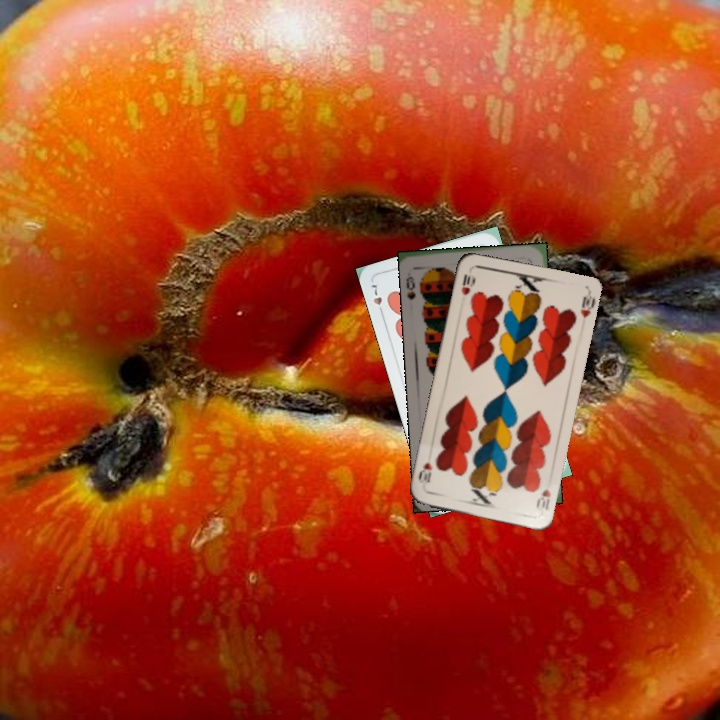H10: (532, 485, 553, 513), (457, 270, 477, 298)
H7: (367, 280, 386, 318)
S8: (403, 272, 418, 302)
